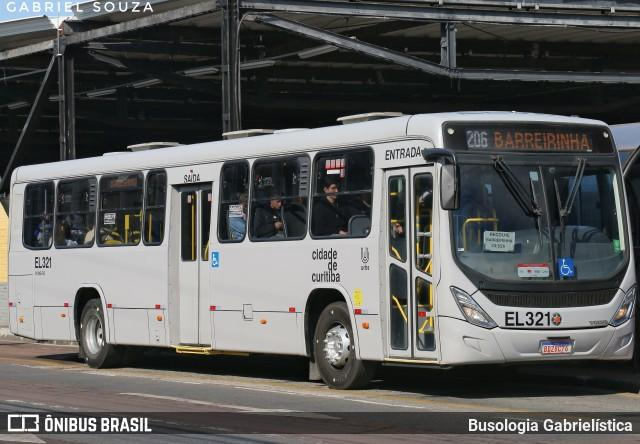BARREIRINHA: (489, 129, 592, 155)
